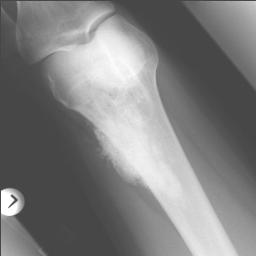cancer: (93, 111, 183, 207)
